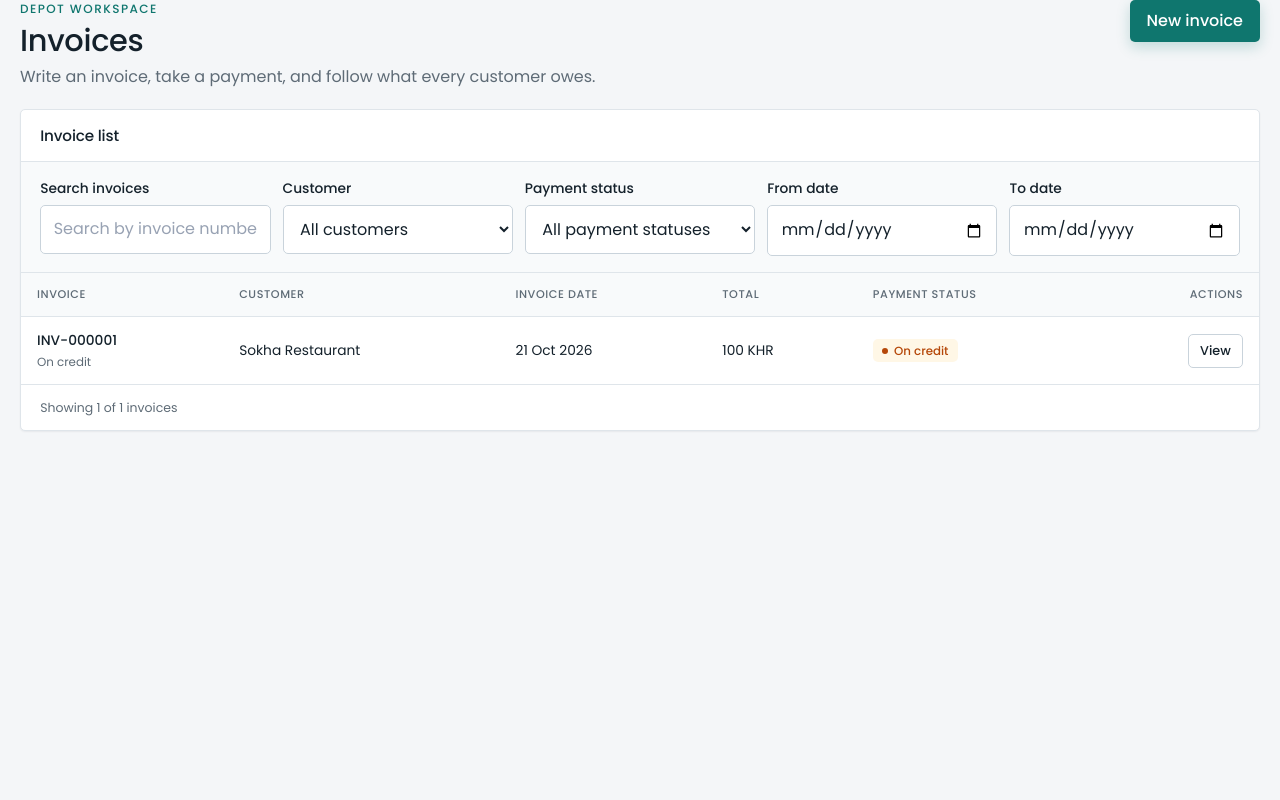
Test case: InvoicesManager void flow › lets the owner void an invoice with a reason
The width and height of the screenshot is (1280, 800).
Click the button "View": (1215, 351) [1188,334,1243,368]
(page scrolled)
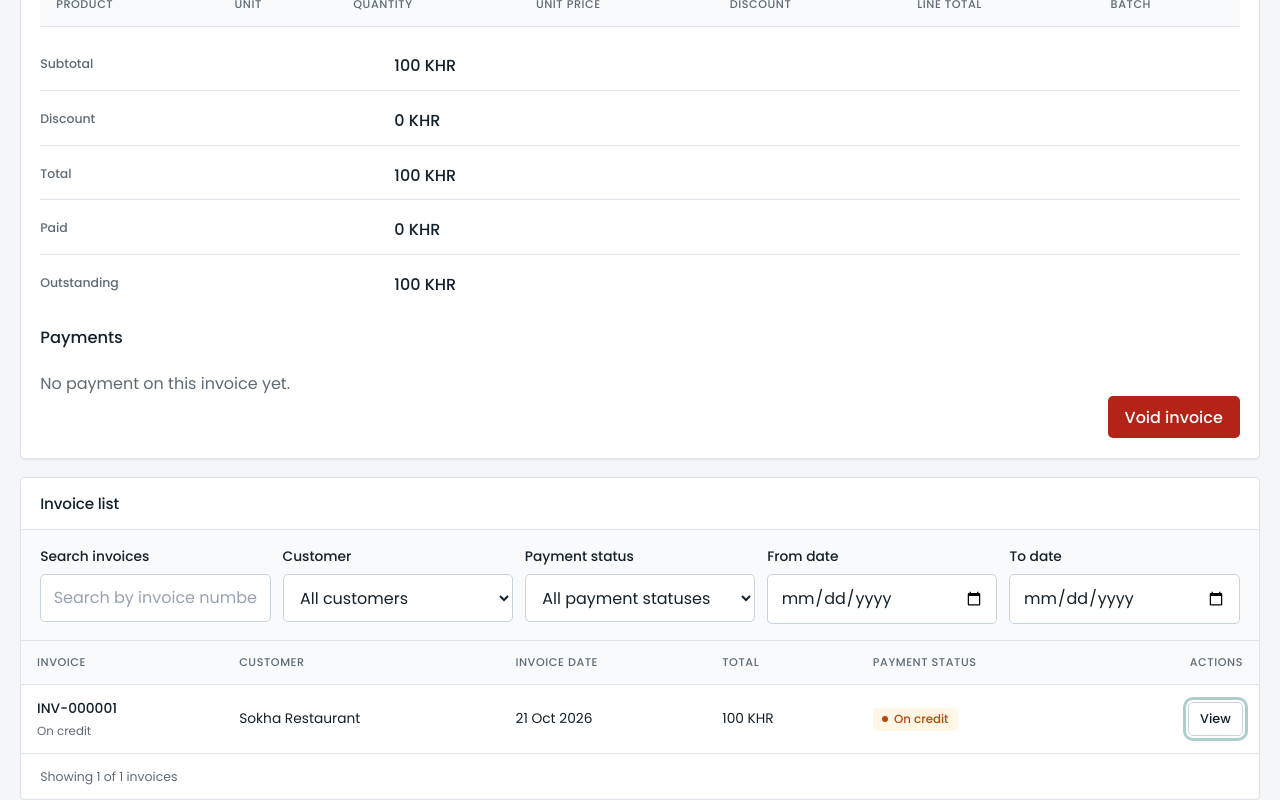
Click the button "Void invoice": (1174, 417) [1108,396,1240,438]
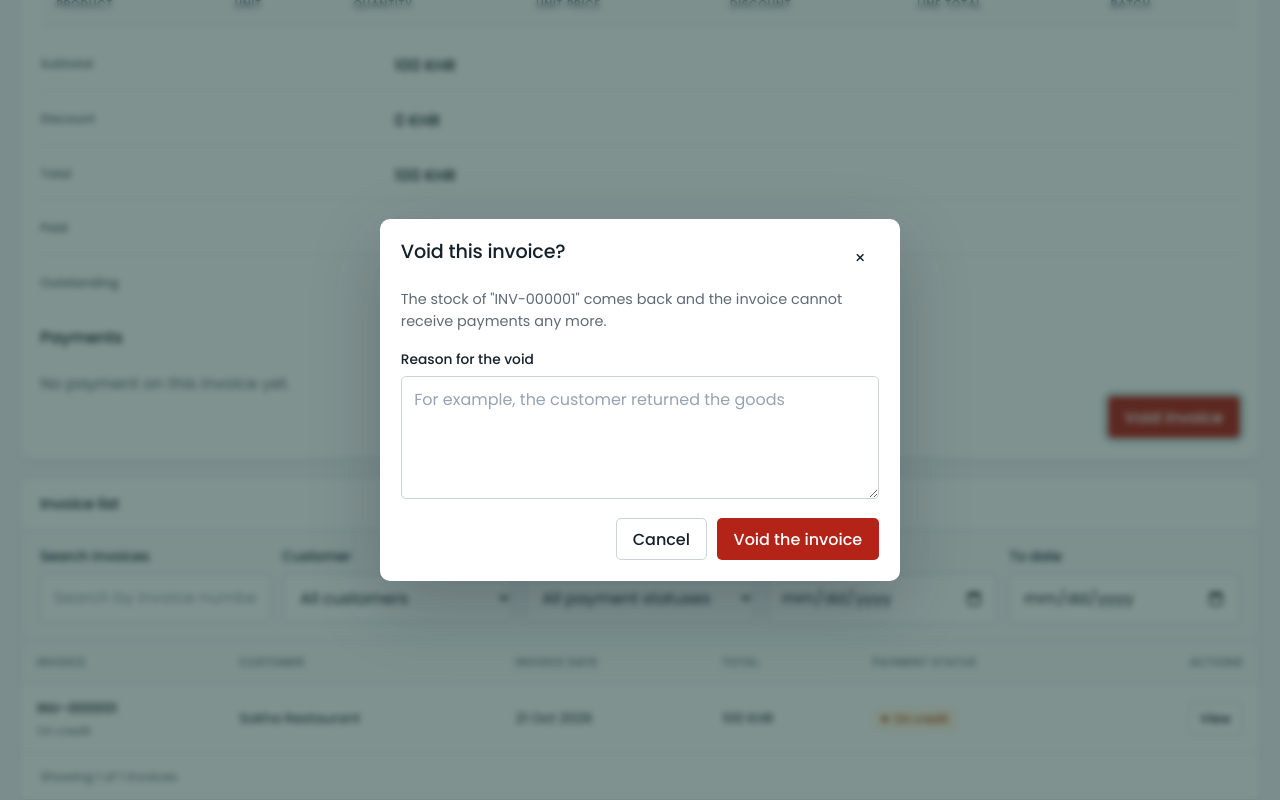
Check: the heading "Void this invoice?" is shown, box [401,240,565,264]
In the text box labelled "Reason for the void": (640, 438) [401,376,879,499], type "The customer returned the goods"
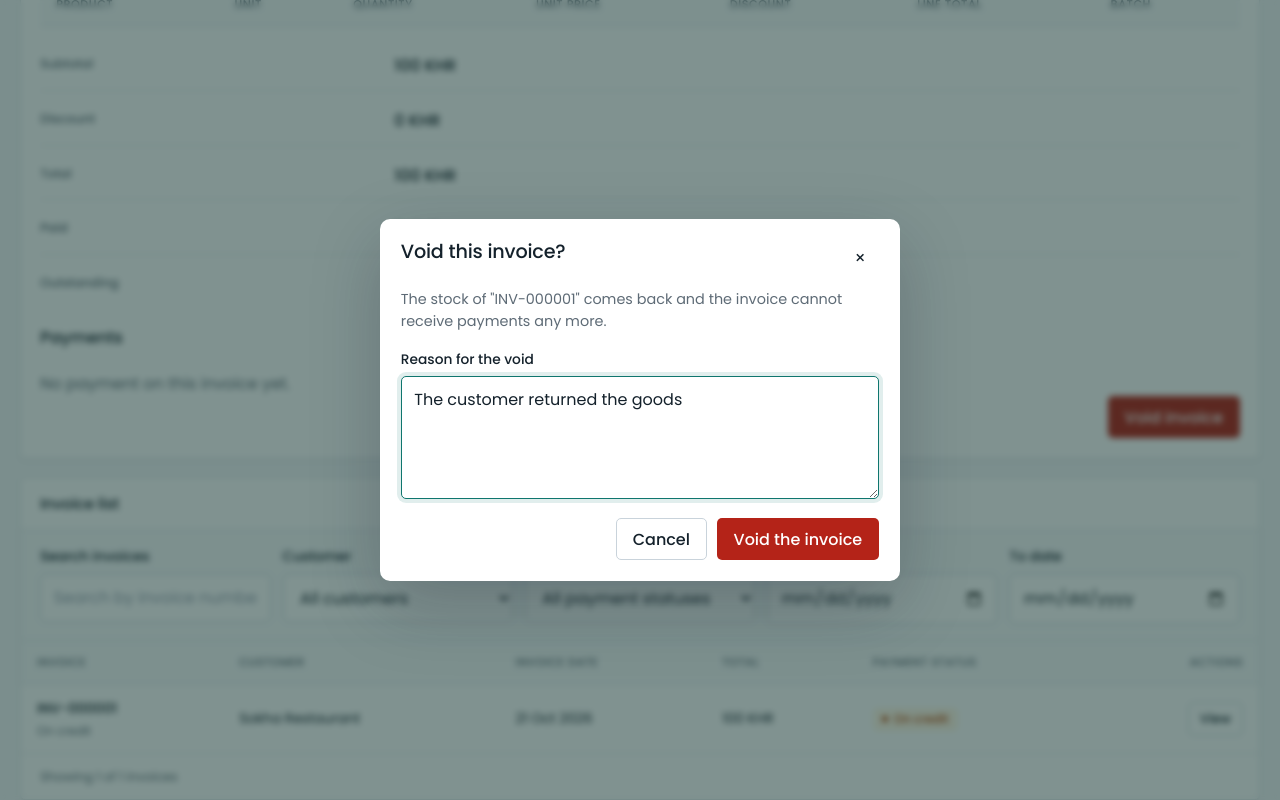
Click the button "Void the invoice": (798, 539) [717,518,879,560]
(page scrolled)
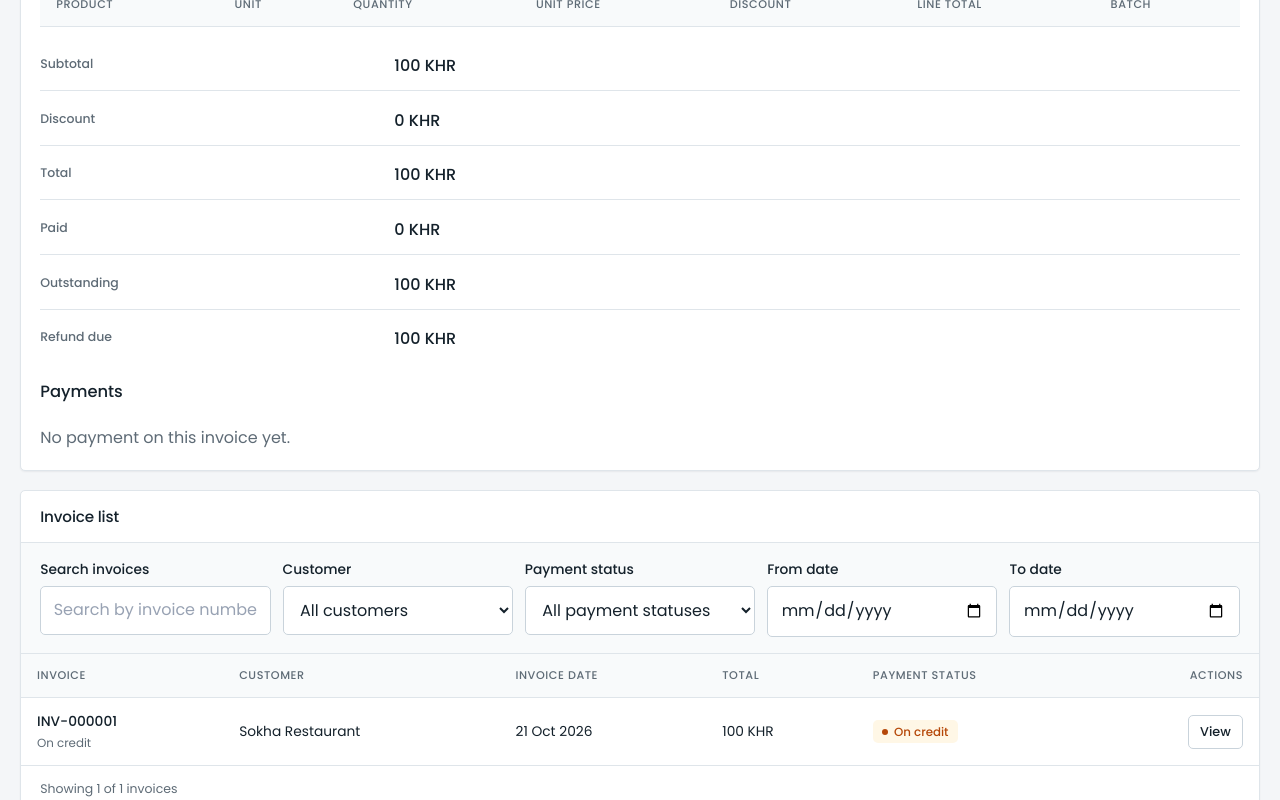
Check: the text "100 KHR" in the row of "Subtotal" is shown, box [394,54,456,77]
Check: the text "Refund due" is shown, box [40,328,112,345]
